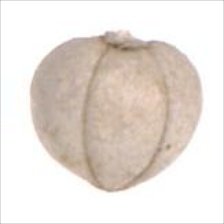L5: (79, 44, 172, 193), (95, 27, 164, 56)
L6: (28, 27, 206, 194)
